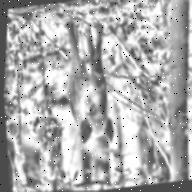boar: (57, 17, 120, 150)
